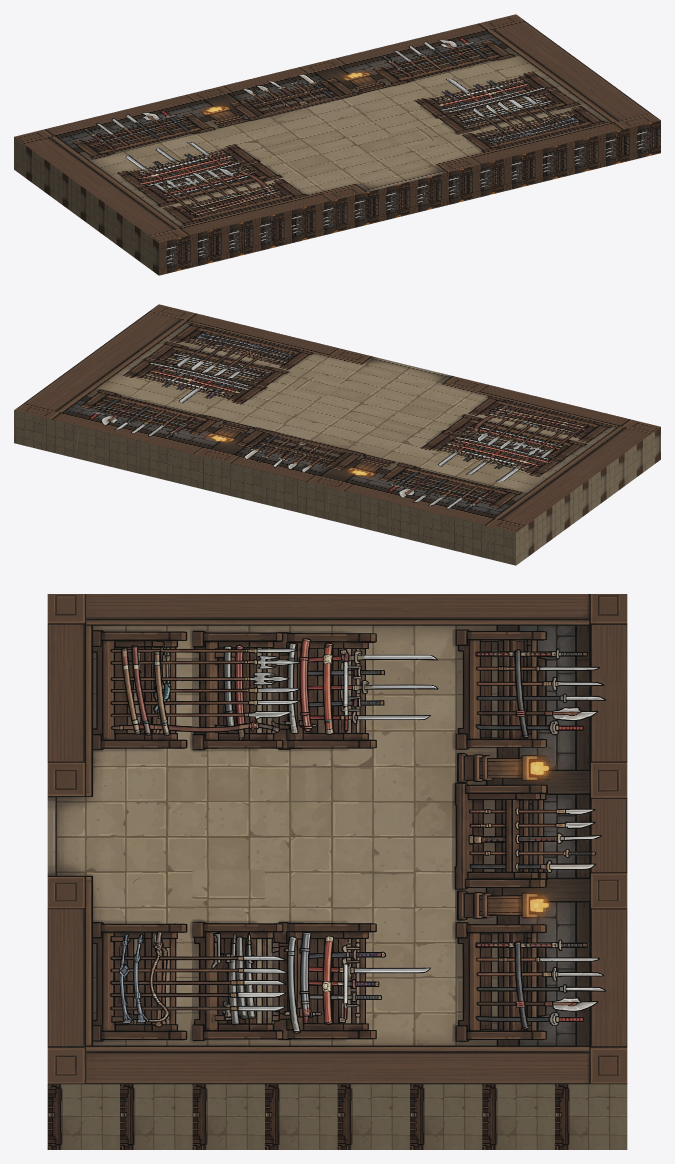
The model's file is 武器庫2.fbx.
3 views of the same model, one above another, from view 1: azimuth 30°, elevation 25°; view 2: azimuth 150°, elevation 25°; view 3: azimuth 270°, elevation 25° (orthographic). The views are drawn at different scales.
Parts seen in each view (by area): view 1: 立方体.070, 立方体.167, 立方体.104, 立方体.072, 立方体.106, 立方体.117, 立方体.103, 立方体.120, 立方体.169, 立方体.170, 立方体.069, 立方体.119 (+116 smaller); view 2: 立方体.081, 立方体.178, 立方体.146, 立方体.083, 立方体.128, 立方体.148, 立方体.131, 立方体.145, 立方体.180, 立方体.181, 立方体.080, 立方体.130 (+116 smaller); view 3: 立方体.102, 立方体.113, 立方体.156, 立方体.106, 立方体.109, 立方体.148, 立方体.152, 立方体.160, 立方体.066, 立方体.076, 立方体.088, 立方体.096 (+116 smaller).
Boxes of the visible parts, box(x1,y1,x2,y2) form: 立方体.070: box(140, 222, 190, 275); 立方体.167: box(298, 183, 347, 237); 立方体.104: box(517, 130, 566, 183); 立方体.072: box(235, 199, 284, 252); 立方体.106: box(612, 107, 660, 160); 立方体.117: box(423, 153, 472, 206); 立方体.103: box(549, 122, 598, 175); 立方体.120: box(486, 138, 535, 191); 立方体.169: box(329, 176, 378, 229); 立方体.170: box(361, 168, 409, 221); 立方体.069: box(172, 214, 221, 267); 立方体.119: box(455, 145, 503, 198); 立方体.081: box(484, 512, 534, 565); 立方体.178: box(327, 473, 376, 527); 立方体.146: box(108, 420, 157, 473); 立方体.083: box(390, 489, 439, 542); 立方体.128: box(202, 443, 251, 496); 立方体.148: box(14, 397, 62, 450); 立方体.131: box(139, 428, 188, 481); 立方体.145: box(76, 412, 125, 465); 立方体.180: box(296, 466, 345, 519); 立方体.181: box(265, 458, 313, 511); 立方体.080: box(453, 504, 502, 557); 立方体.130: box(171, 435, 219, 488); 立方体.102: box(265, 1053, 337, 1149); 立方体.113: box(120, 1053, 192, 1149); 立方体.156: box(482, 1053, 554, 1149); 立方体.106: box(47, 1053, 119, 1149); 立方体.109: box(192, 1053, 264, 1149); 立方体.148: box(555, 1053, 627, 1149); 立方体.152: box(337, 1053, 409, 1149); 立方体.160: box(410, 1053, 482, 1149); 立方体.066: box(265, 624, 337, 655); 立方体.076: box(120, 624, 192, 655); 立方体.088: box(482, 624, 554, 655); 立方体.096: box(265, 869, 337, 900).
Bounding box in the file's own units: 16 × 1 × 8.
1 material, 1 textured.
